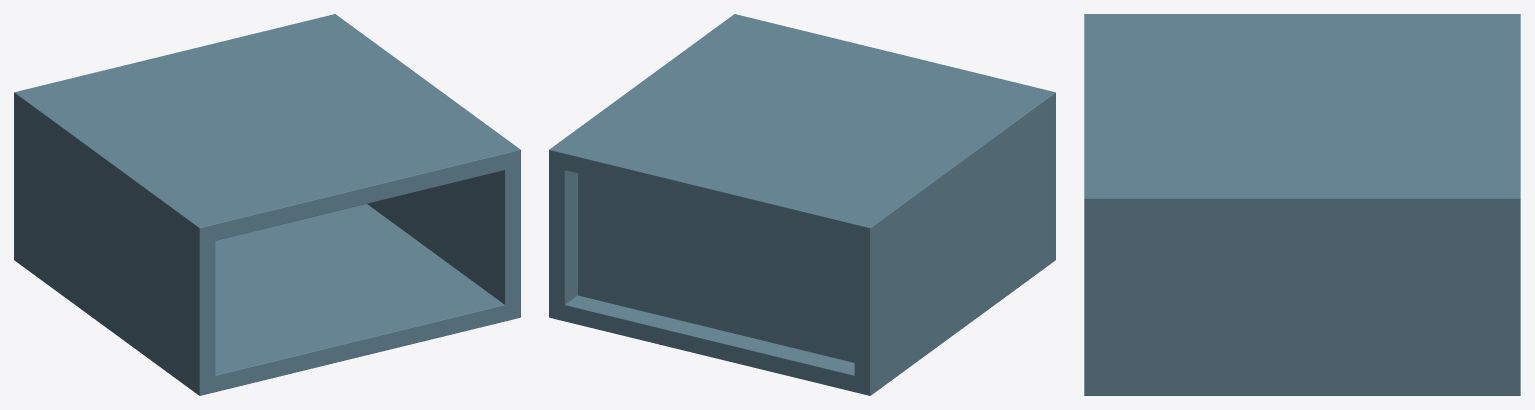
Rendered from MOD-1X05-A-B-AC.glb.
3 views of the same model, side by side, from view 1: azimuth 30°, elevation 25°; view 2: azimuth 150°, elevation 25°; view 3: azimuth 270°, elevation 25° (orthographic). The views are drawn at different scales.
Bounding box in the file's own units: 360 × 180 × 360.
